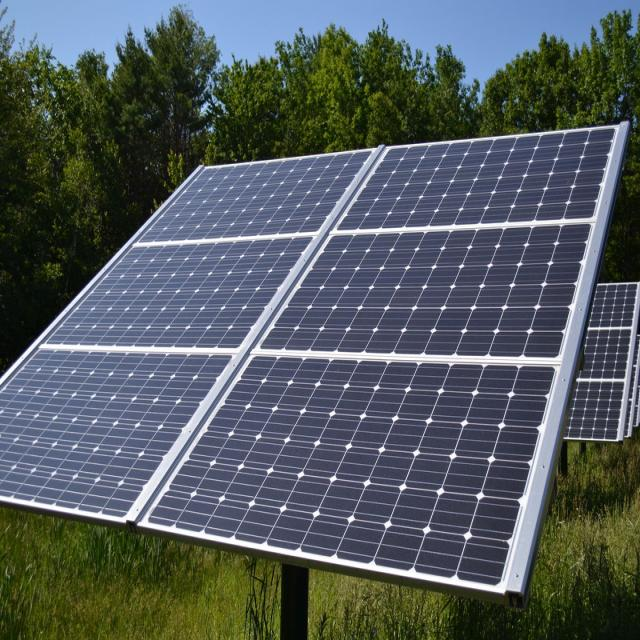clean-solar-panel: (0, 124, 629, 602)
